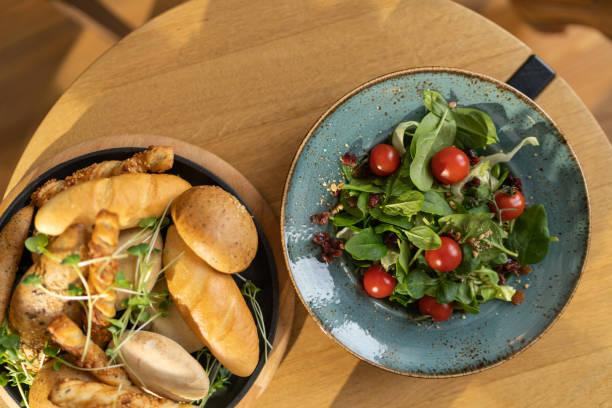Braised Crucian Carp: (281, 66, 586, 378), (2, 138, 289, 406)
